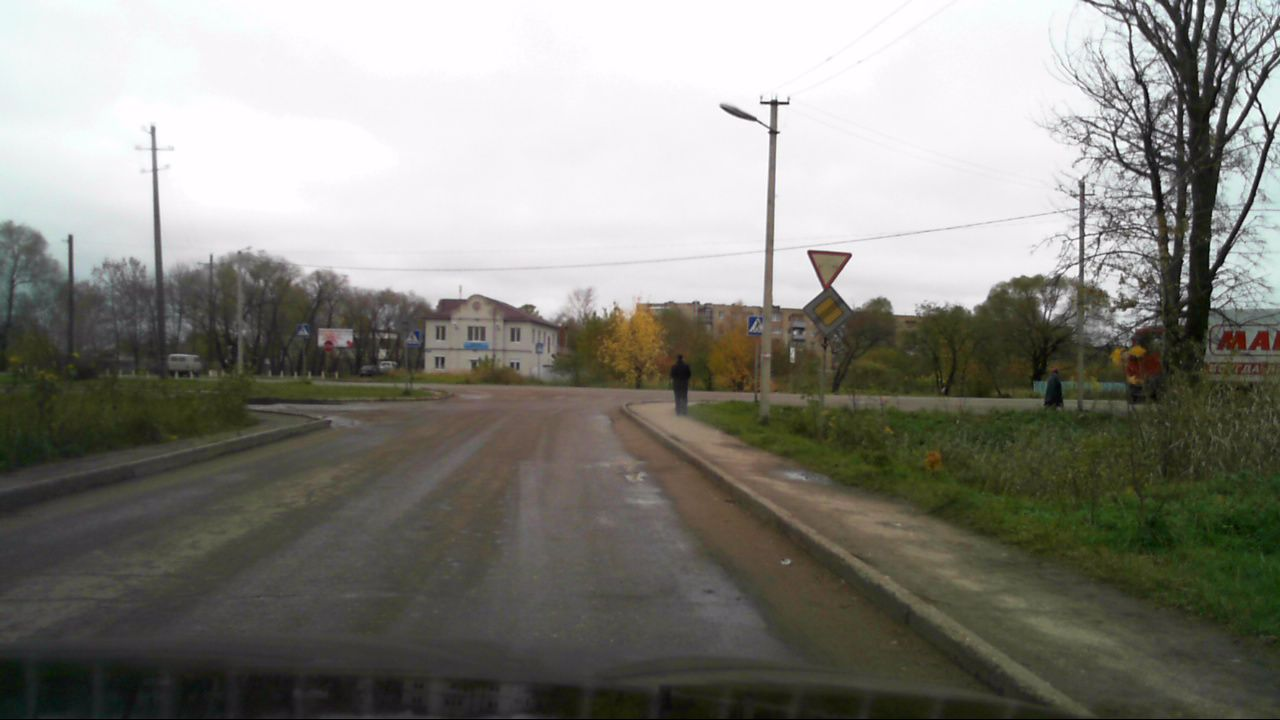main road: (803, 286, 852, 339)
